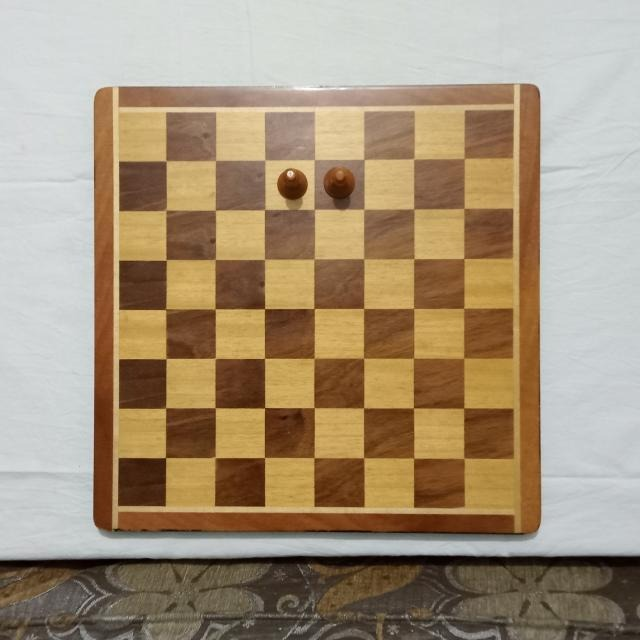white-pawn: (276, 166, 311, 202), (323, 165, 357, 201)
